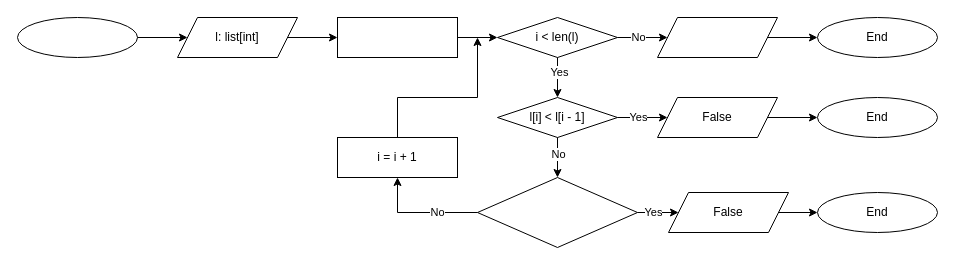
The diagram is 955 pixels wide and 265 high, and some of its shapes have lost their labels. The shapes that lost their labels are listed below. From the top down, each one's centre as x and y in pixels, then its label:
At (77,37): "Start".
At (397,37): "i = 1".
At (717,37): "True".
At (557,212): "i > 1 and l[i] == l[i - 1] == l[i - 2]".
